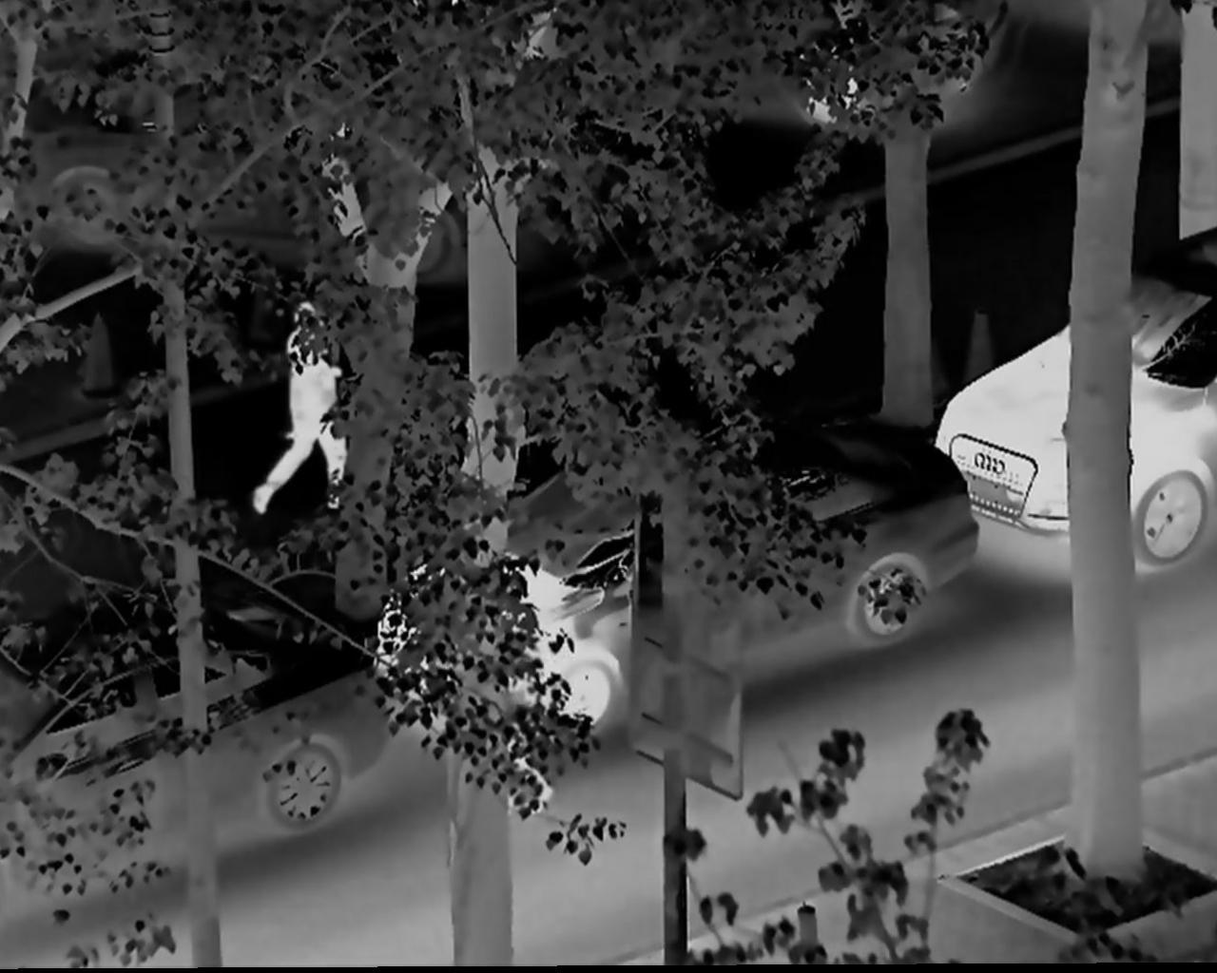person: (253, 296, 355, 516)
